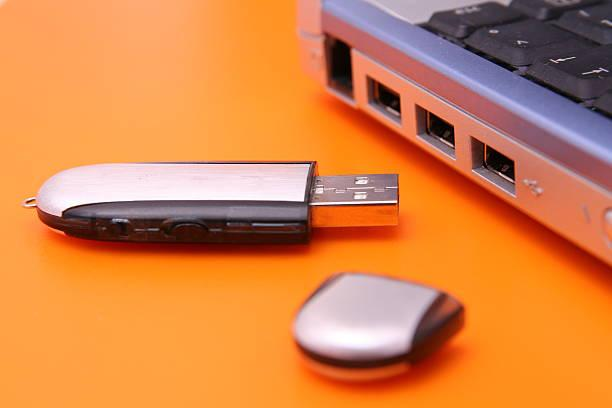USB Flash Drive: (38, 161, 400, 245)
